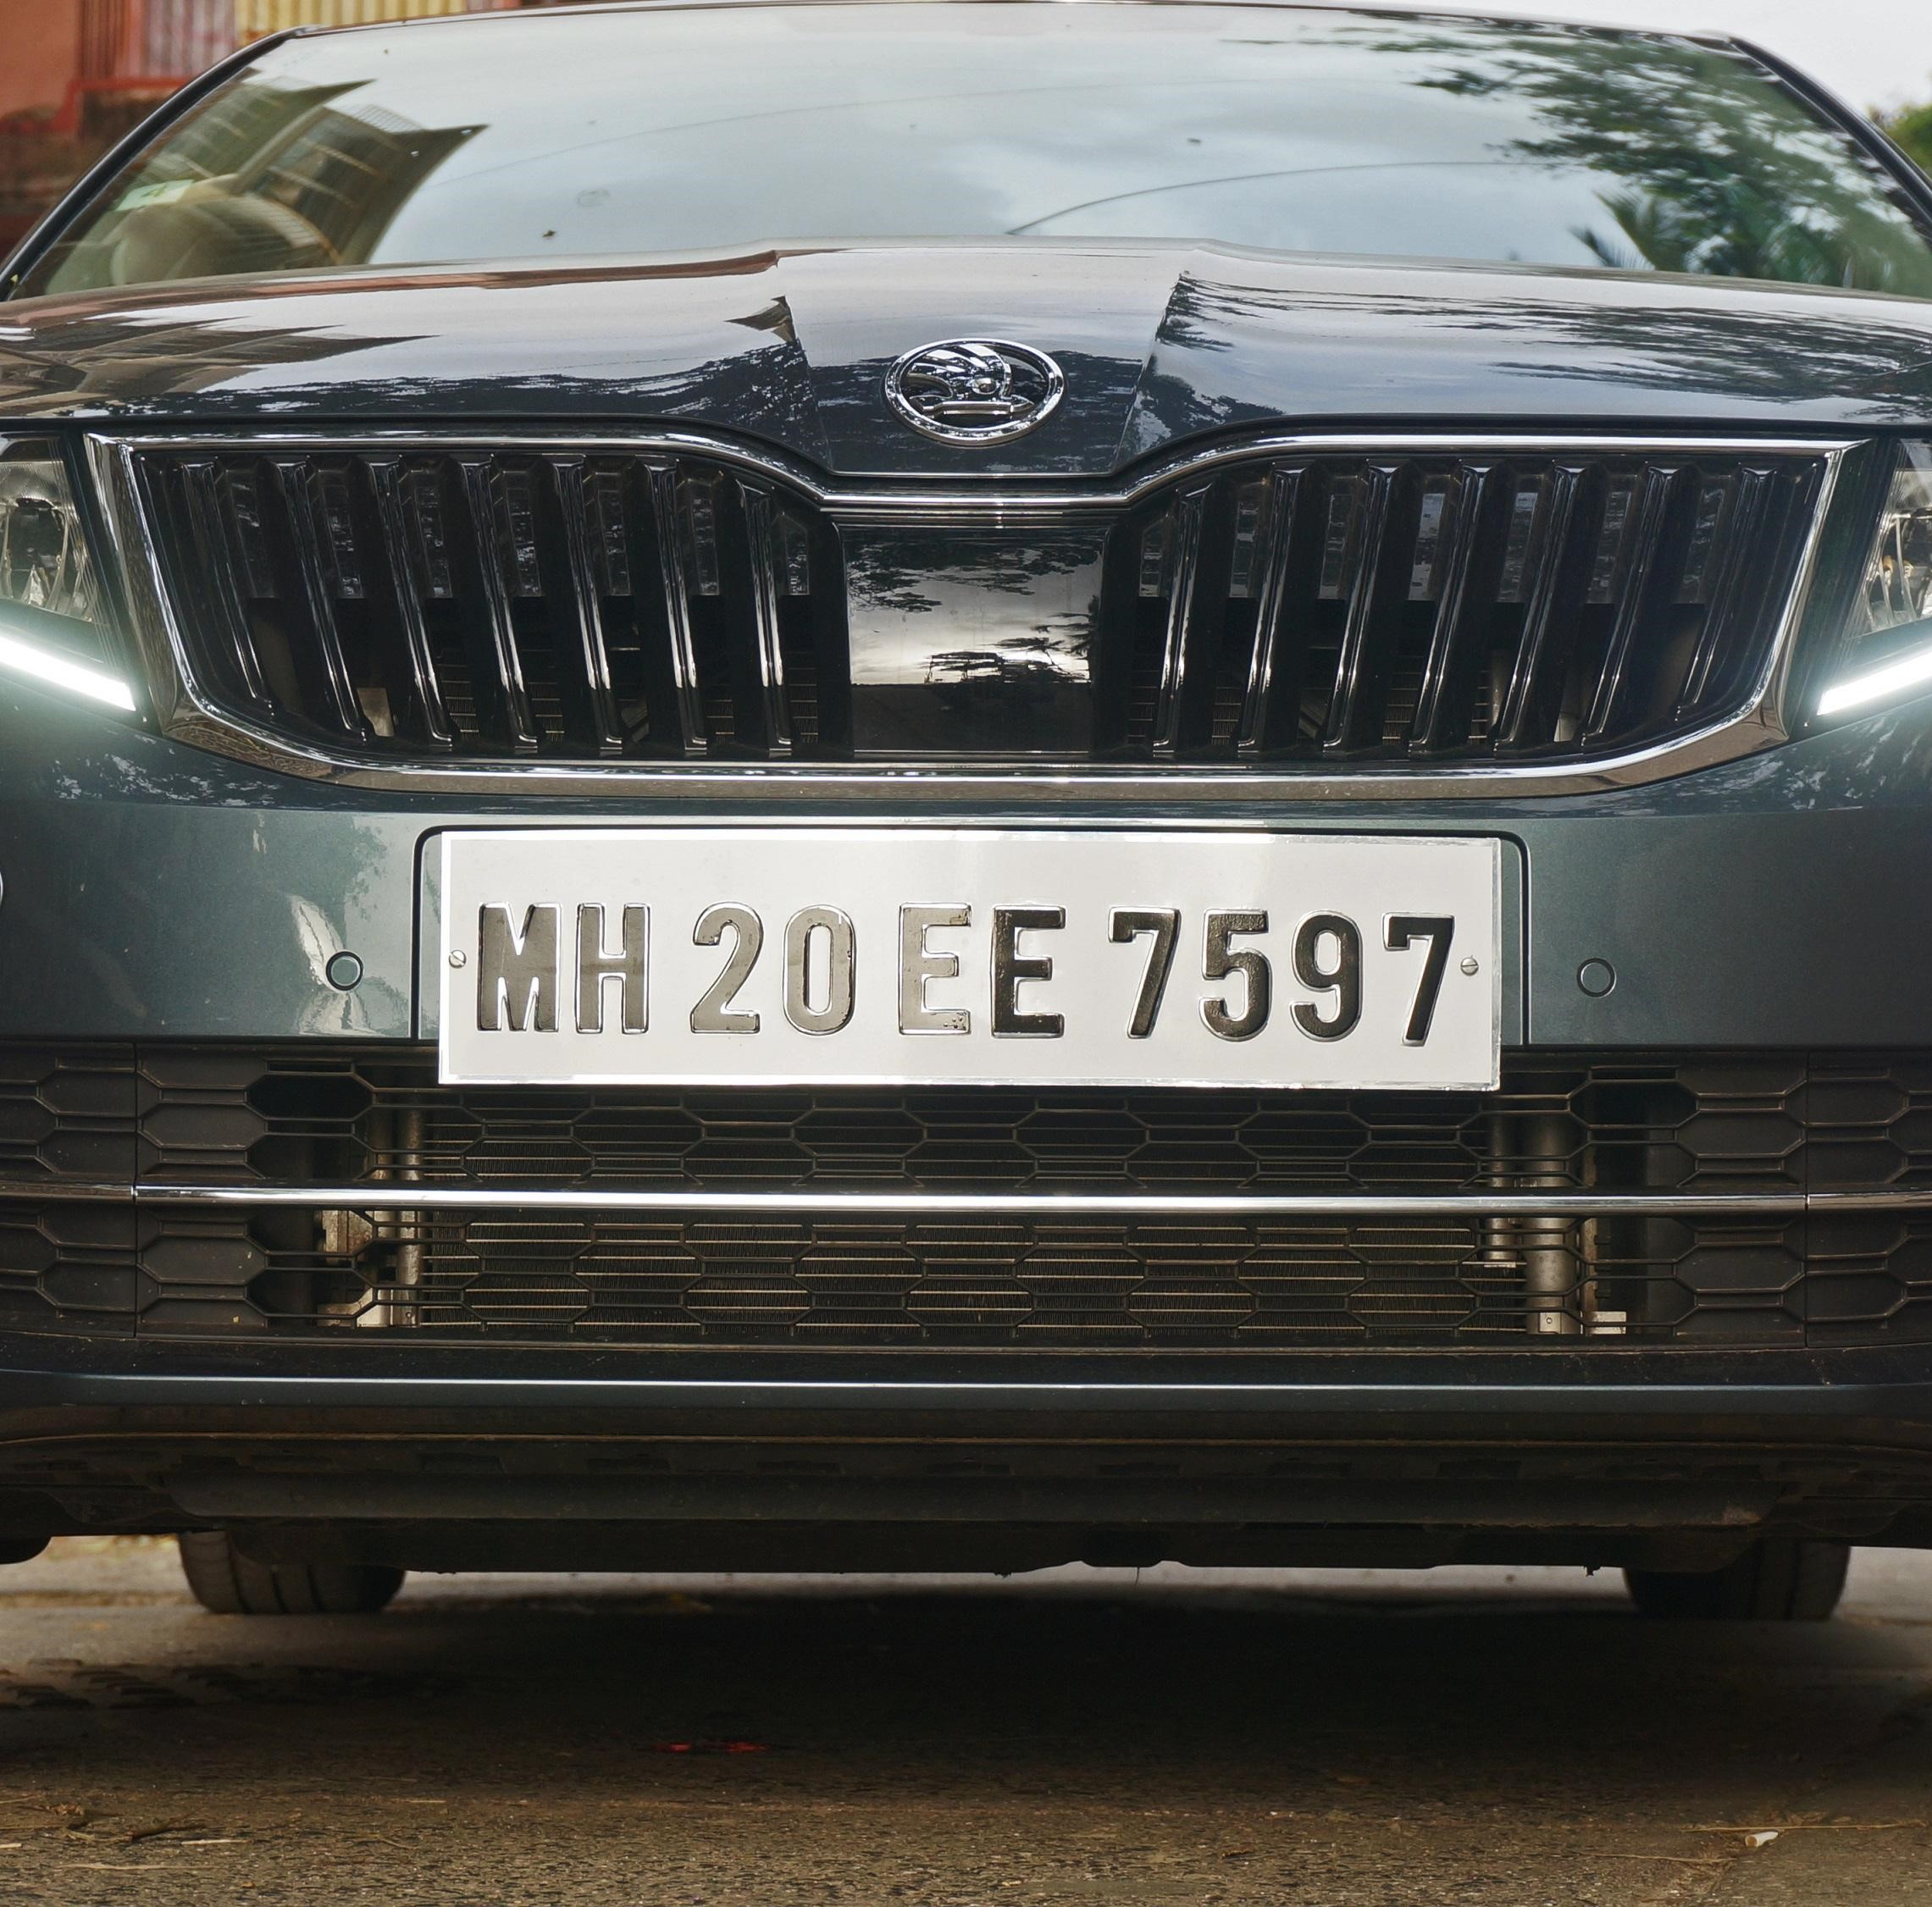MH20EE7597: (443, 832, 1503, 1084)
